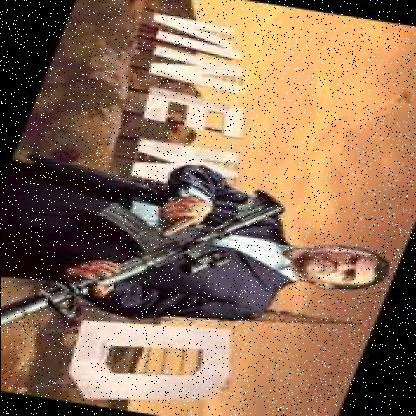rifle: (0, 150, 296, 380)
